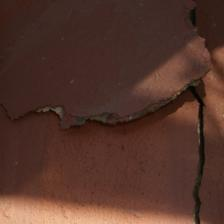Crack: (13, 60, 215, 126), (189, 85, 214, 224), (183, 4, 211, 68)
